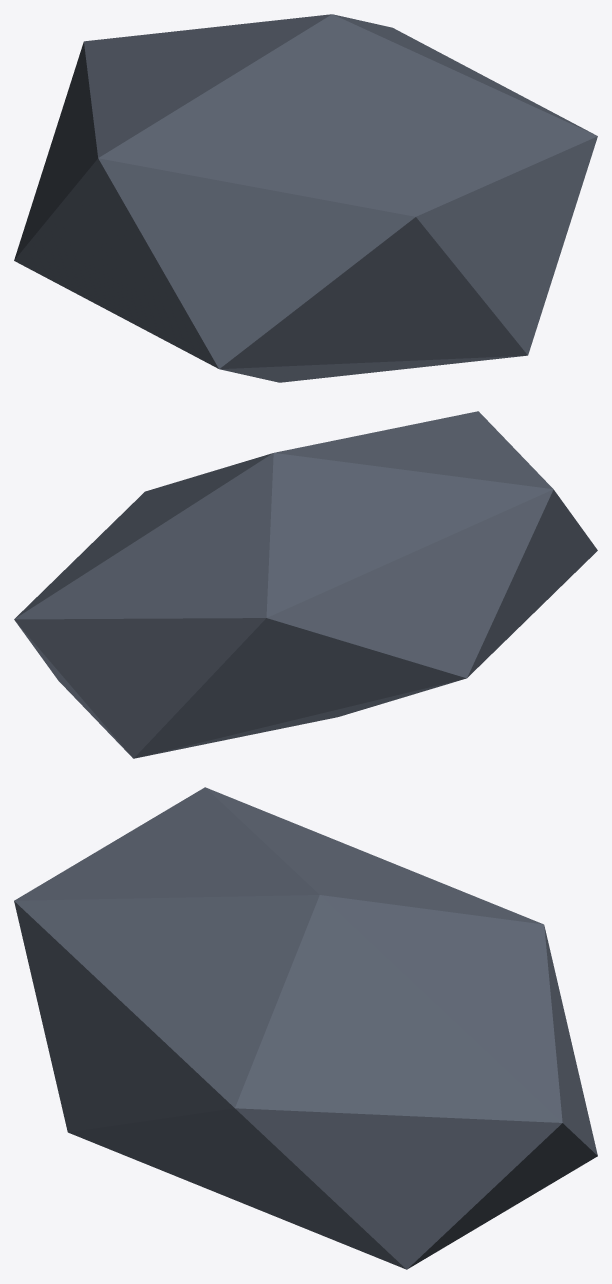
File: EXT_SouthCliff_05_Shard_0.glb
3 views of the same model, one above another, from view 1: azimuth 30°, elevation 25°; view 2: azimuth 150°, elevation 25°; view 3: azimuth 270°, elevation 25° (orthographic). The views are drawn at different scales.
Visible parts, largest first — view 1: EXT_SouthCliff_05_Shard_0; view 2: EXT_SouthCliff_05_Shard_0; view 3: EXT_SouthCliff_05_Shard_0.
Part boxes in pixels (x1=…): EXT_SouthCliff_05_Shard_0: x1=14, y1=14, x2=597, y2=382; EXT_SouthCliff_05_Shard_0: x1=14, y1=411, x2=597, y2=758; EXT_SouthCliff_05_Shard_0: x1=14, y1=787, x2=597, y2=1269.
Bounding box in the file's own units: 1.66 × 1.01 × 1.81.
